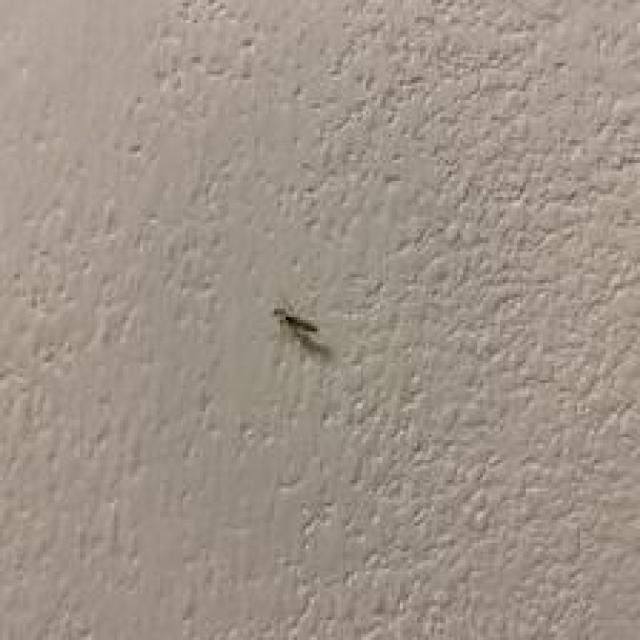Culex: (272, 304, 328, 356)
